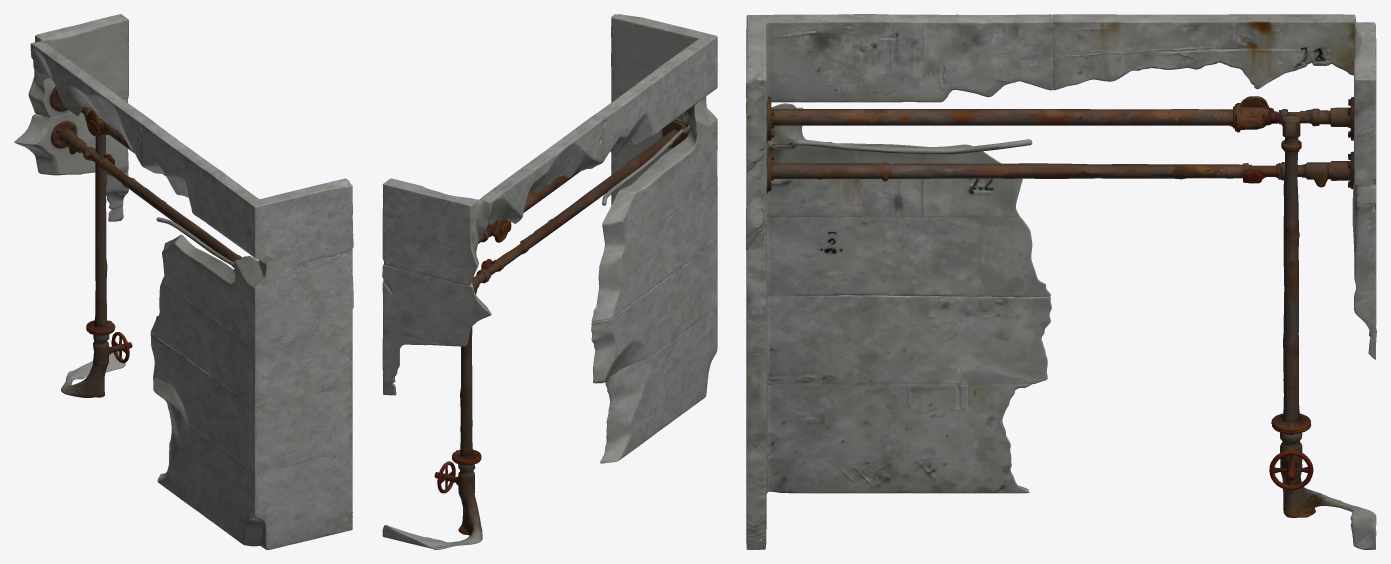
Rendered from 3D-модель+промышленной+трубной+стенки.glb.
3 renders of one model, left to right at view 1: azimuth 30°, elevation 25°; view 2: azimuth 150°, elevation 25°; view 3: azimuth 270°, elevation 25°, orthographic. The views are drawn at different scales.
Parts seen in each view (by area): view 1: tripo_node_92075005-55a1-407d-bd84-1ea942352e46; view 2: tripo_node_92075005-55a1-407d-bd84-1ea942352e46; view 3: tripo_node_92075005-55a1-407d-bd84-1ea942352e46.
Boxes of the visible parts, bbox=[...] form: tripo_node_92075005-55a1-407d-bd84-1ea942352e46: bbox=[14, 14, 353, 549]; tripo_node_92075005-55a1-407d-bd84-1ea942352e46: bbox=[382, 14, 717, 549]; tripo_node_92075005-55a1-407d-bd84-1ea942352e46: bbox=[746, 14, 1376, 549].
Bounding box in the file's own units: 0.262 × 0.8092 × 0.9781.
Materials: 1 (1 with a texture image).
